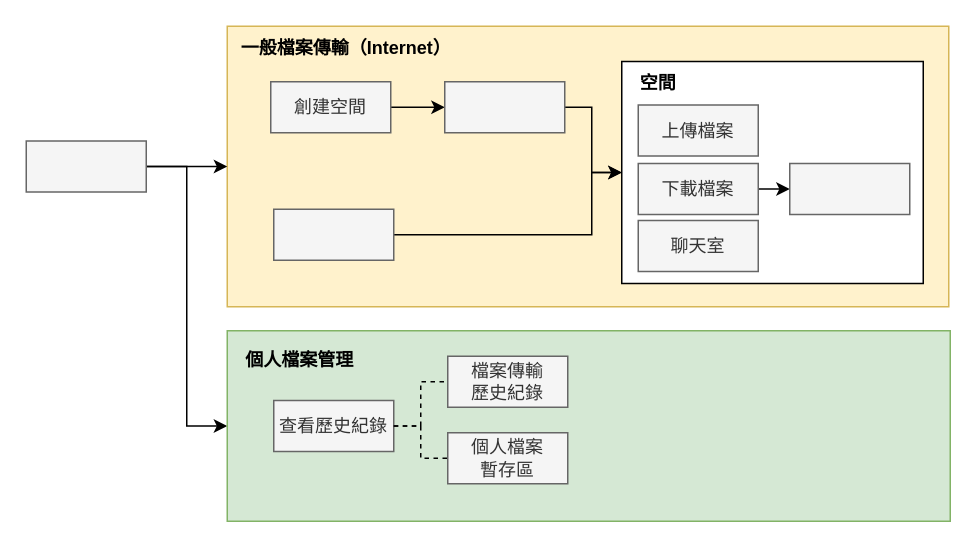
Image size: 977x548. Some labels were removed from this diagram. The box of each missing label's shape, as (x1, y1, x2, y2) in pixels:
加入空間: (272, 208, 394, 260)
取得邀請碼 邀請其他人: (443, 80, 565, 133)
註冊登入: (25, 140, 146, 192)
選擇儲存位置: (788, 162, 910, 214)
